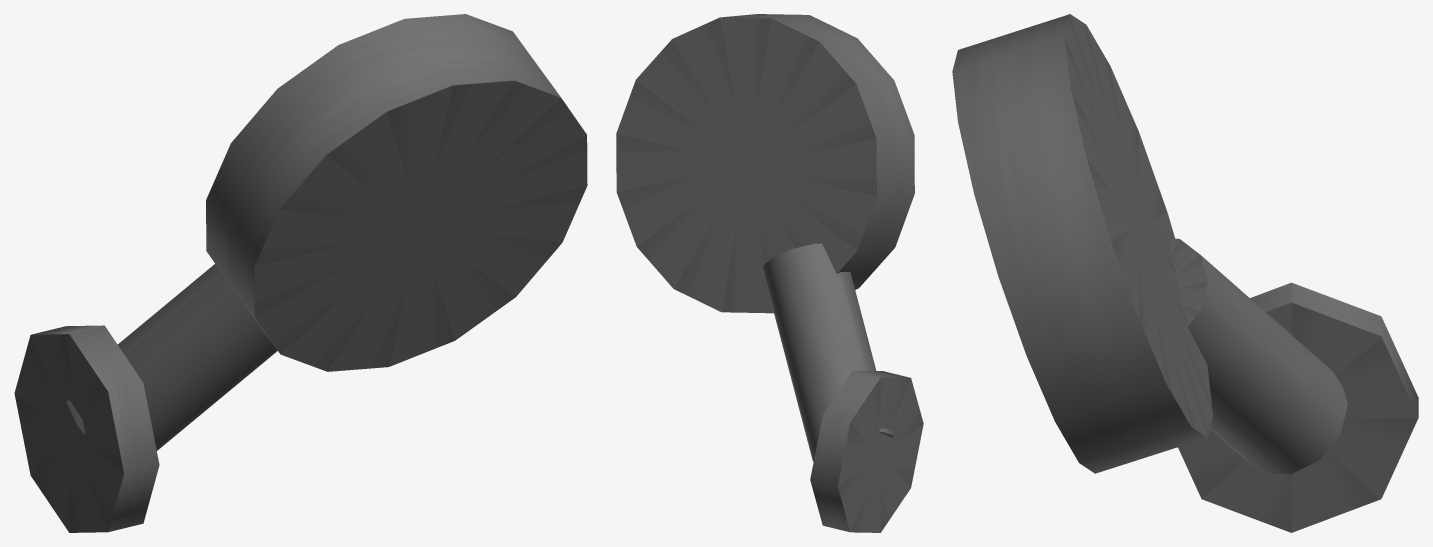
The model's file is mastarmcurve_4x1_c1_west.obj.
3 views of the same model, side by side, from view 1: azimuth 30°, elevation 25°; view 2: azimuth 150°, elevation 25°; view 3: azimuth 270°, elevation 25° (orthographic). The views are drawn at different scales.
Parts seen in each view (by area): view 1: mastarm_4x1_c1_west; view 2: mastarm_4x1_c1_west; view 3: mastarm_4x1_c1_west.
Part boxes in pixels (x1,y1,x2,y2): mastarm_4x1_c1_west: (14,14,587,532); mastarm_4x1_c1_west: (616,14,923,532); mastarm_4x1_c1_west: (952,14,1418,532).
Bounding box in the file's own units: 0.858 × 1.06 × 0.7336.
